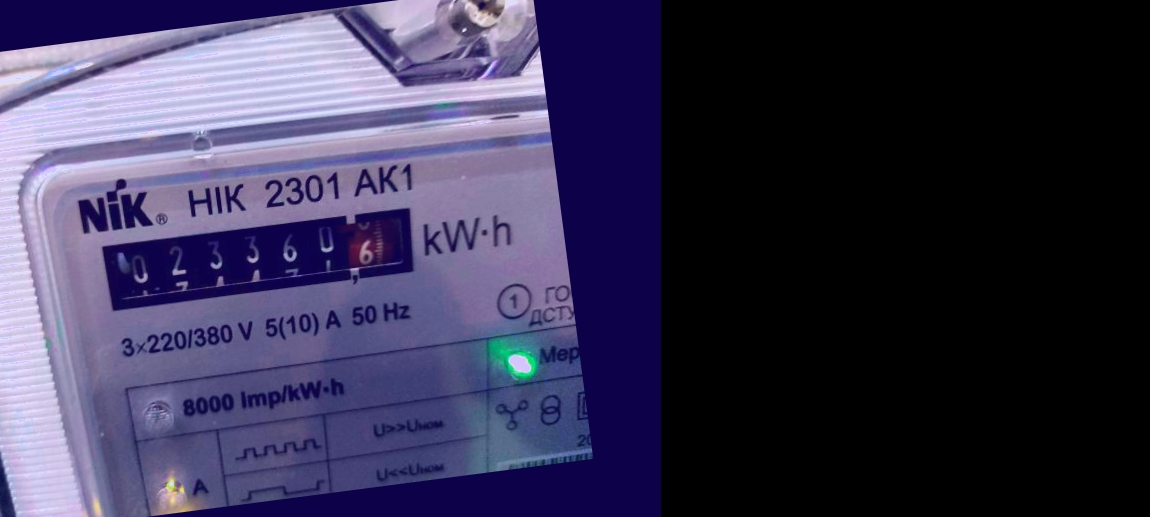0: (125, 250, 151, 285), (314, 221, 335, 254)
2: (163, 241, 190, 278)
3: (200, 237, 225, 271), (239, 231, 262, 264)
6: (275, 229, 299, 264), (351, 234, 376, 266)
screen: (80, 187, 432, 328)
